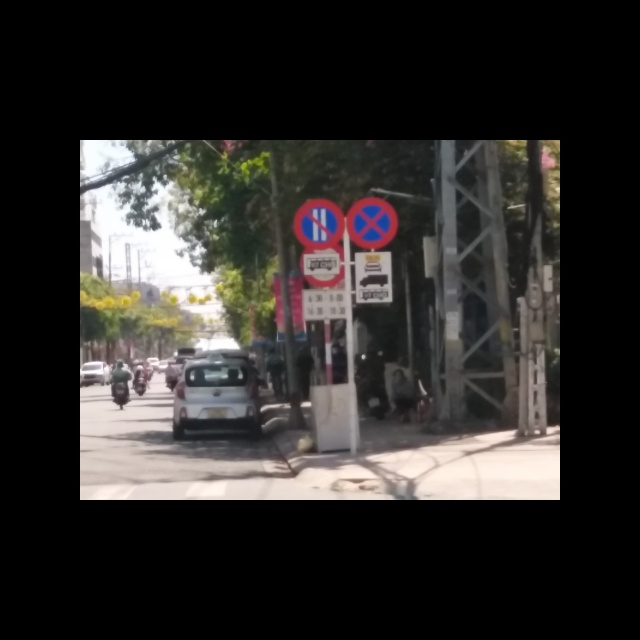Cấm dừng xe và đỗ xe: (346, 197, 398, 249)
Cấm đỗ xe ngày chẵn: (293, 198, 346, 248)
